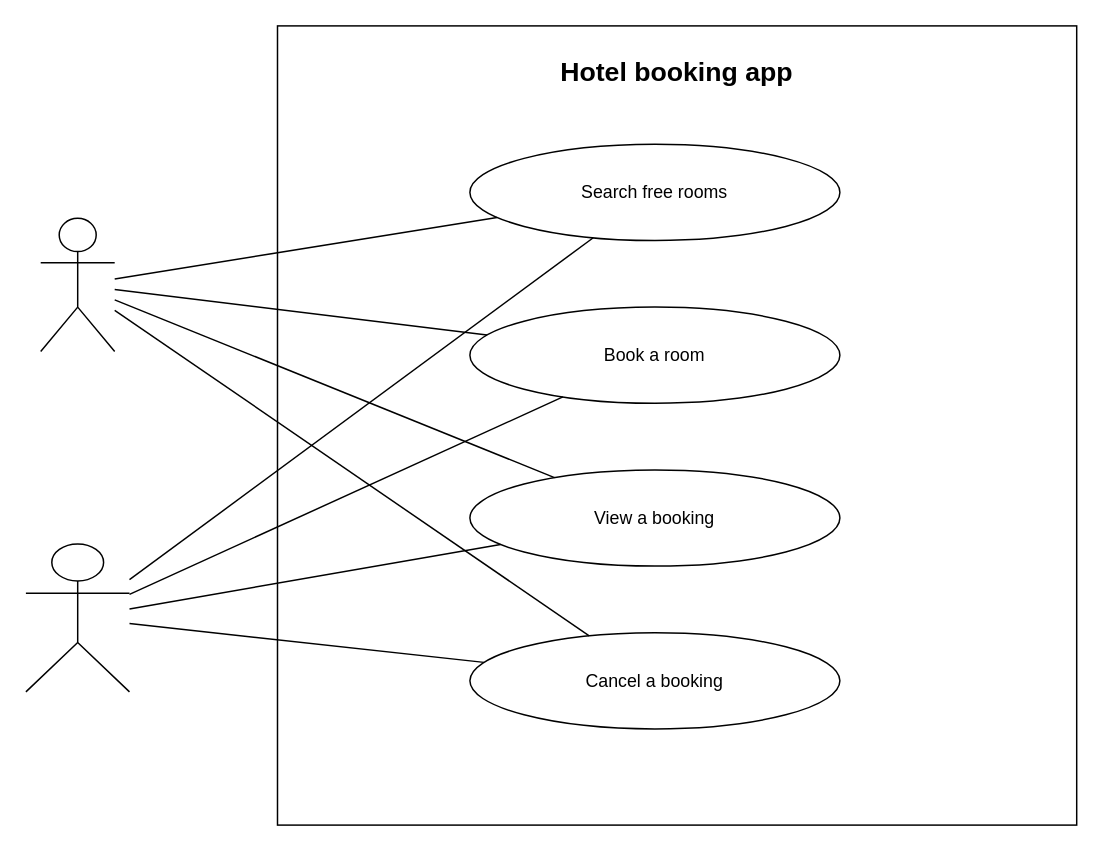
This 1103x851 diagram has some shape labels left out. Each missing label, with the centre of its shape:
Guest: (x=77, y=284)
Receptionist: (x=77, y=617)
